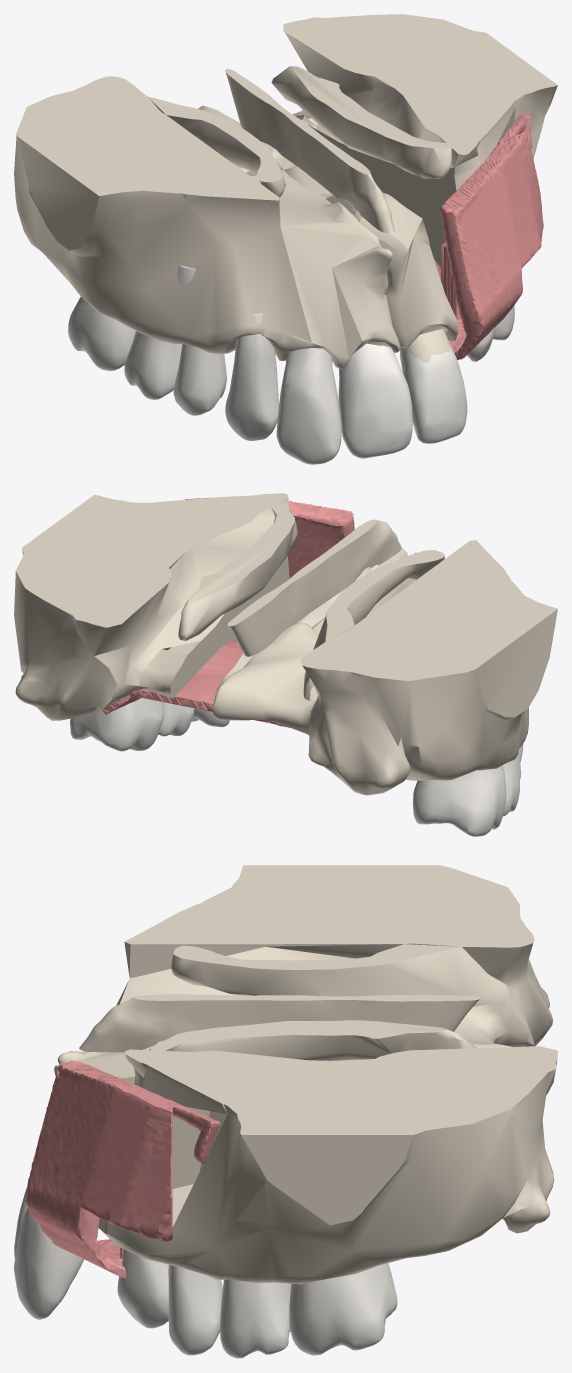
The model's file is abg-pre-op.glb.
3 views of the same model, one above another, from view 1: azimuth 30°, elevation 25°; view 2: azimuth 150°, elevation 25°; view 3: azimuth 270°, elevation 25° (orthographic). The views are drawn at different scales.
Parts seen in each view (by area): view 1: bone, teeth, soft-tissue; view 2: bone, teeth, soft-tissue; view 3: bone, soft-tissue, teeth.
Boxes of the visible parts, bbox=[...] form: bone: bbox=[14, 14, 557, 443]; teeth: bbox=[68, 265, 514, 464]; soft-tissue: bbox=[434, 113, 543, 359]; bone: bbox=[14, 493, 557, 795]; teeth: bbox=[70, 697, 523, 836]; soft-tissue: bbox=[102, 496, 354, 727]; bone: bbox=[14, 865, 557, 1319]; soft-tissue: bbox=[25, 1061, 220, 1278]; teeth: bbox=[14, 1188, 397, 1358].
Size of the model in its own units: 0.0972 by 0.0502 by 0.0828.
